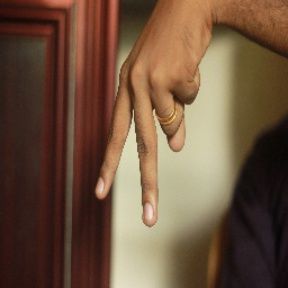Y: (95, 52, 201, 226)
